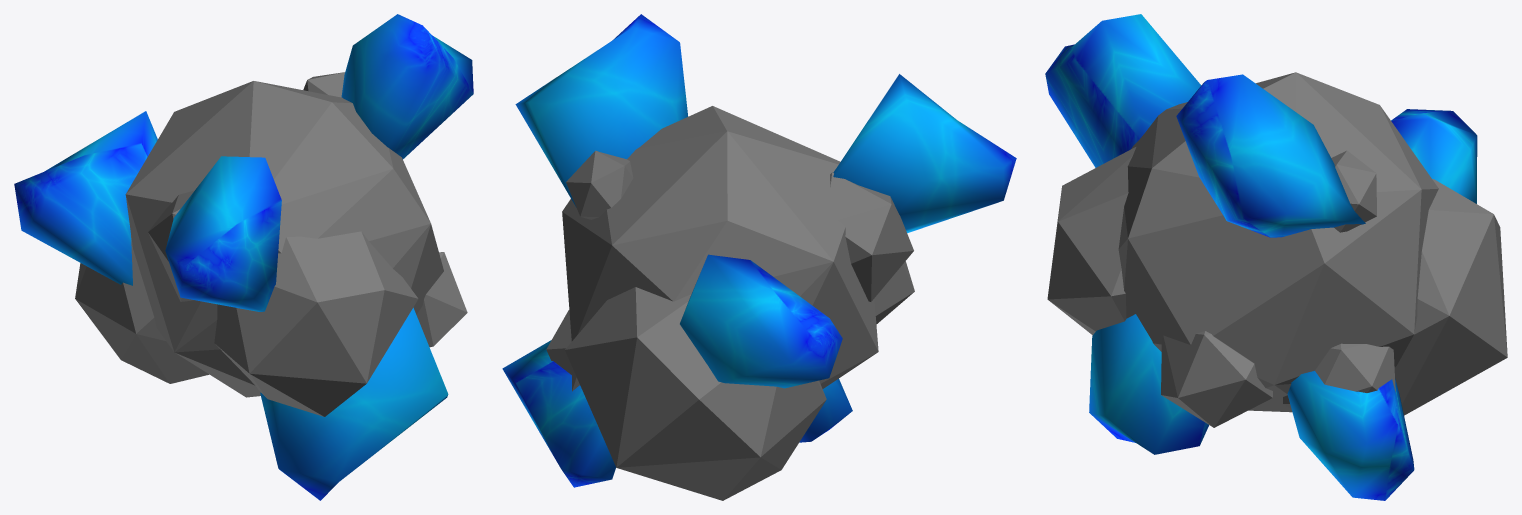
The model's file is MetalOre_blender.fbx.
3 renders of one model, left to right at view 1: azimuth 30°, elevation 25°; view 2: azimuth 150°, elevation 25°; view 3: azimuth 270°, elevation 25°, orthographic. The views are drawn at different scales.
Parts seen in each view (by area): view 1: StoneOre.035, MetalParticle.027; view 2: StoneOre.035, MetalParticle.027; view 3: StoneOre.035, MetalParticle.027.
Part boxes in pixels (x1,y1,x2,y2): StoneOre.035: (75, 72, 467, 416); MetalParticle.027: (14, 14, 473, 500); StoneOre.035: (546, 106, 914, 500); MetalParticle.027: (502, 14, 1016, 487); StoneOre.035: (1047, 72, 1507, 427); MetalParticle.027: (1045, 14, 1477, 500).
Size of the model in its own units: 288 by 285 by 275.
